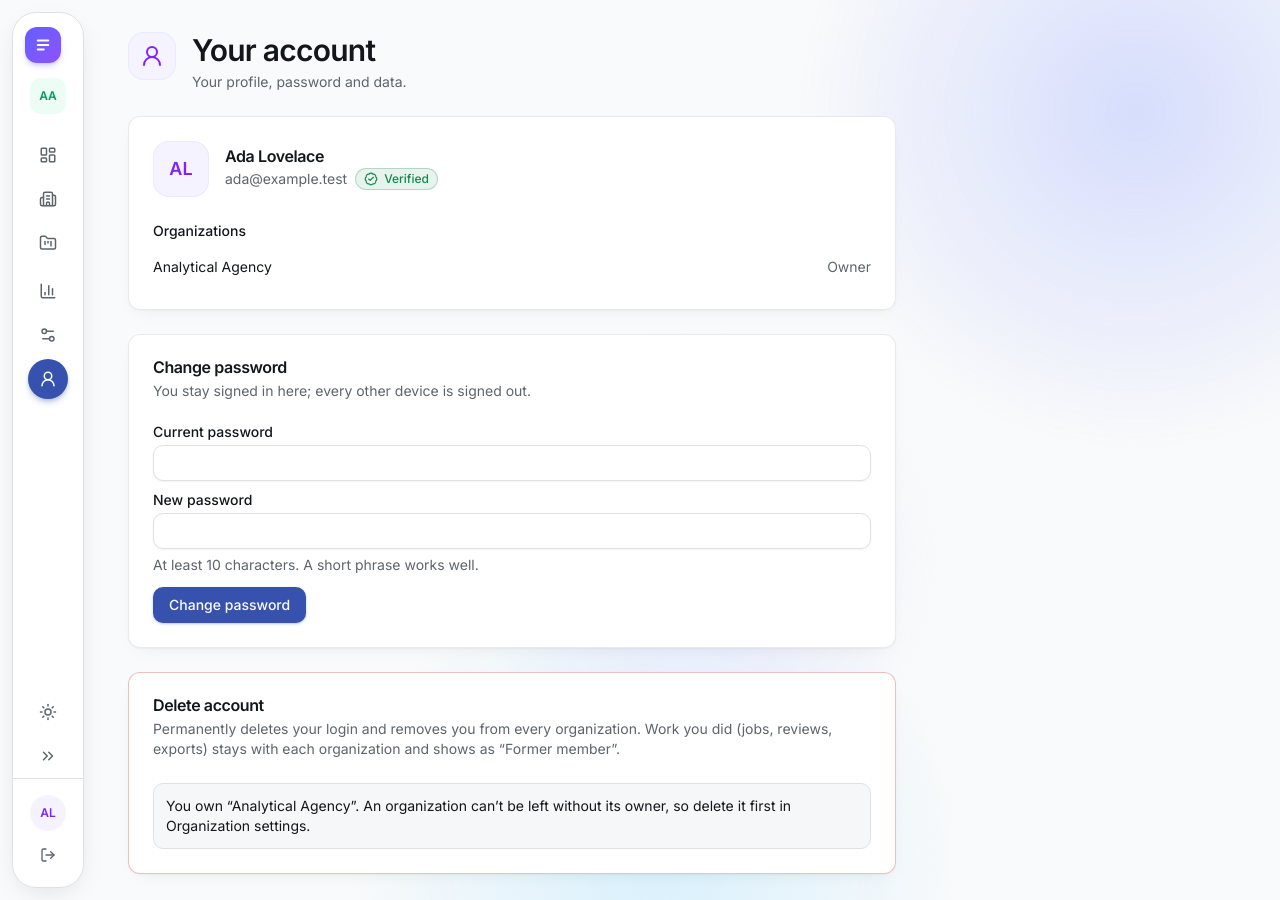
Test case: changing the password › sends the current and new password and confirms
In the password field labelled "Current password": (512, 463) [153,445,871,481], type "a-long-test-password"
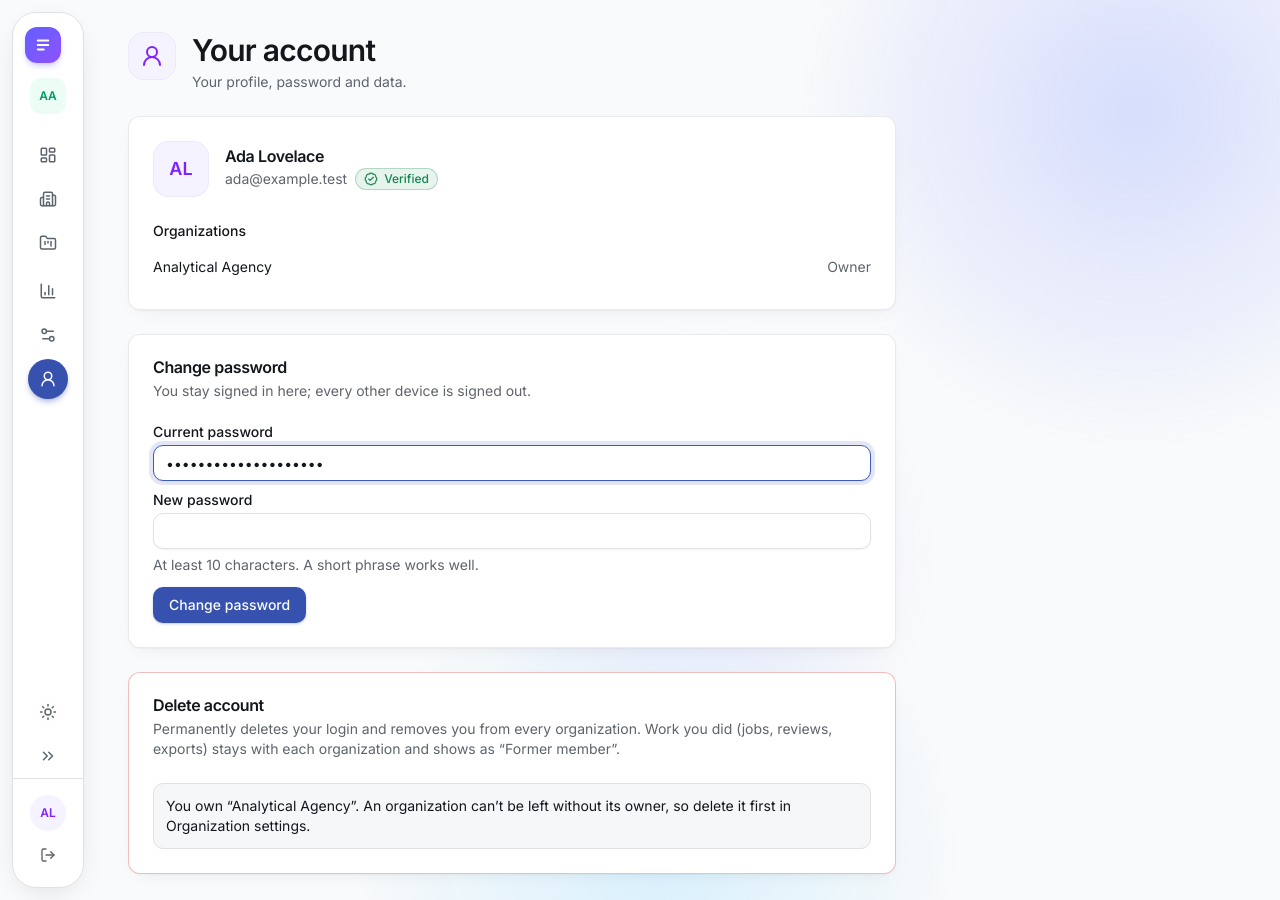
In the password field labelled "New password": (512, 531) [153,513,871,549], type "short"
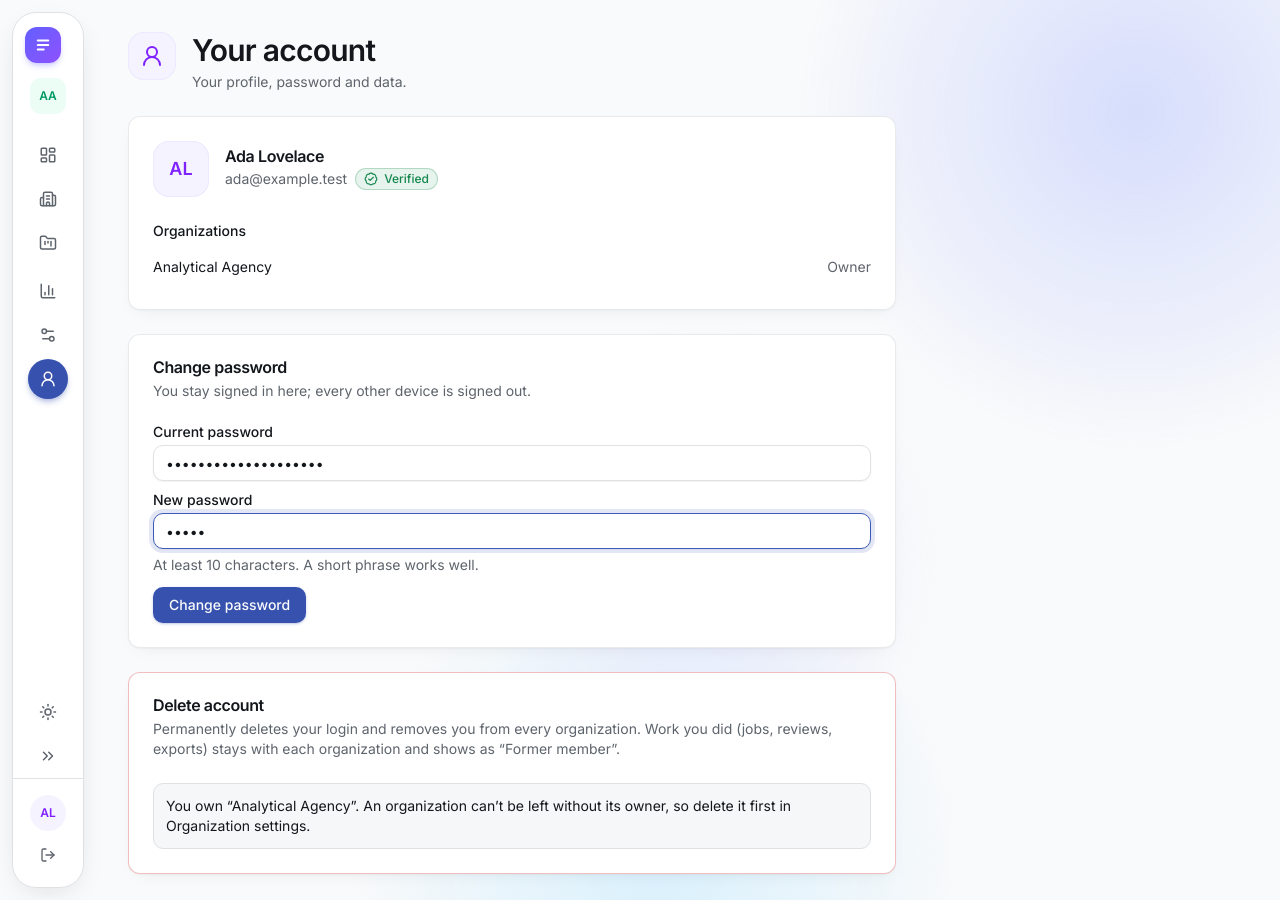
Click the button "Change password": (230, 605) [153,587,306,623]
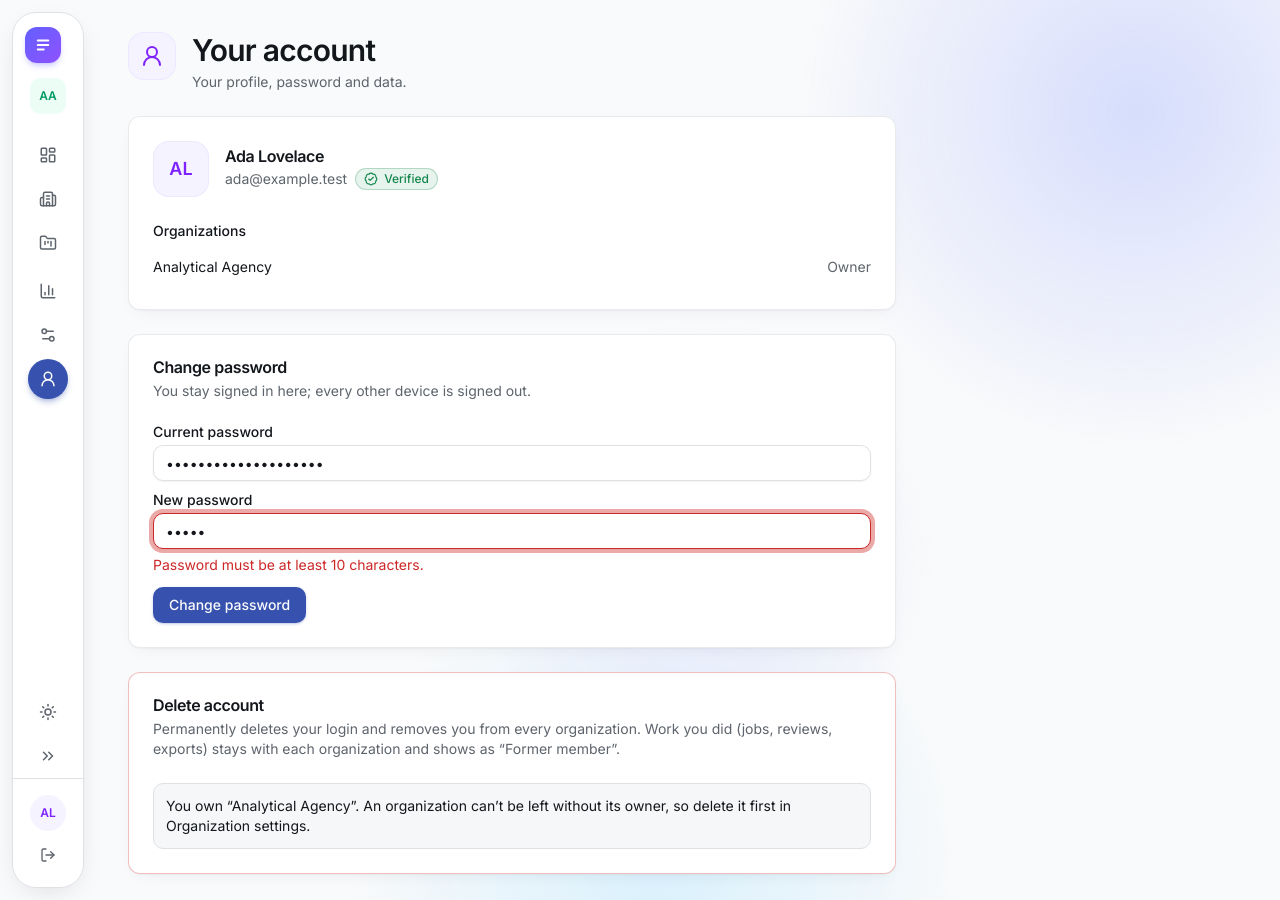
Expected: the text "Password must be at least 10 characters." is shown, [153,556,424,573]
In the password field labelled "New password": (512, 531) [153,513,871,549], type "a-brand-new-password"
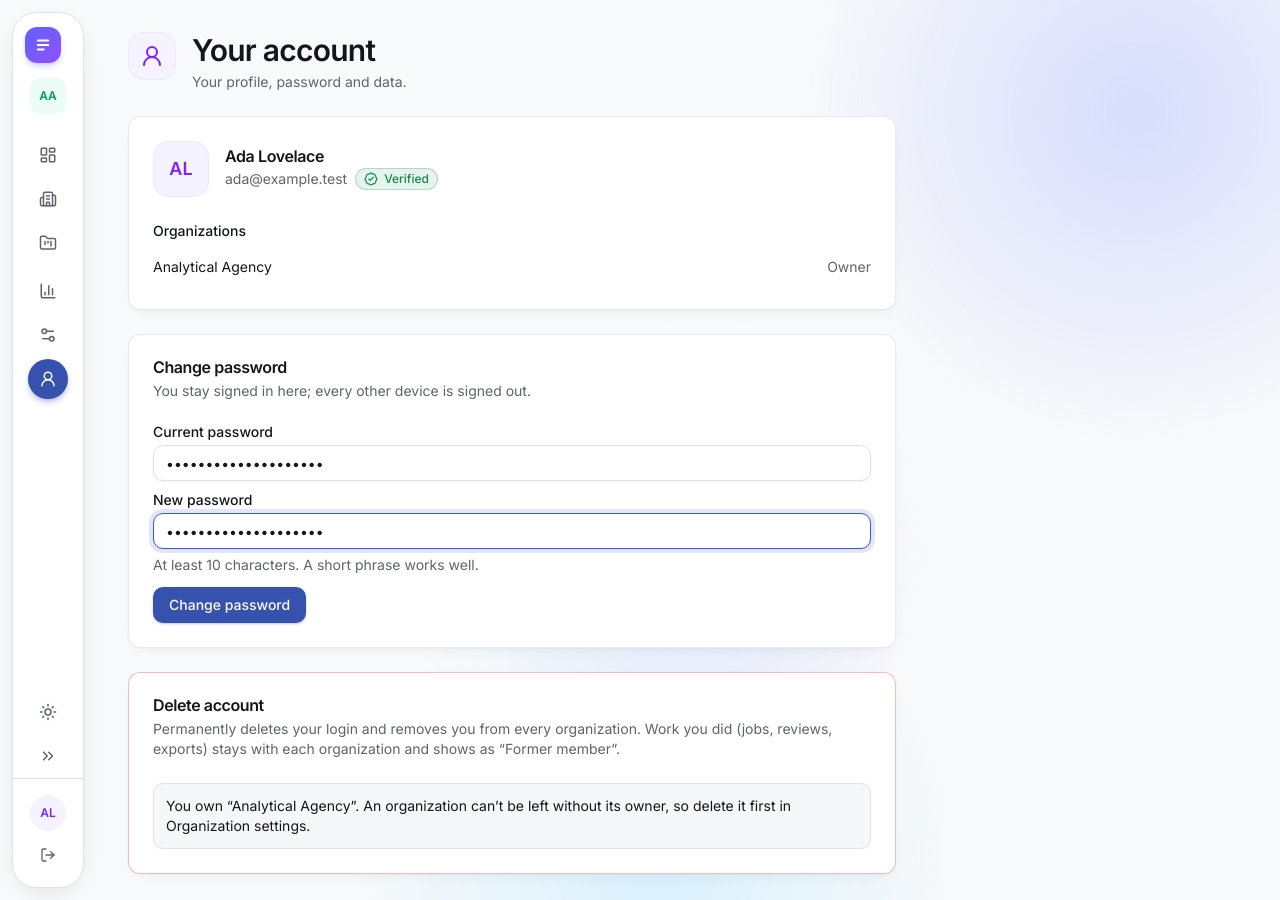
Click the button "Change password": (230, 605) [153,587,306,623]
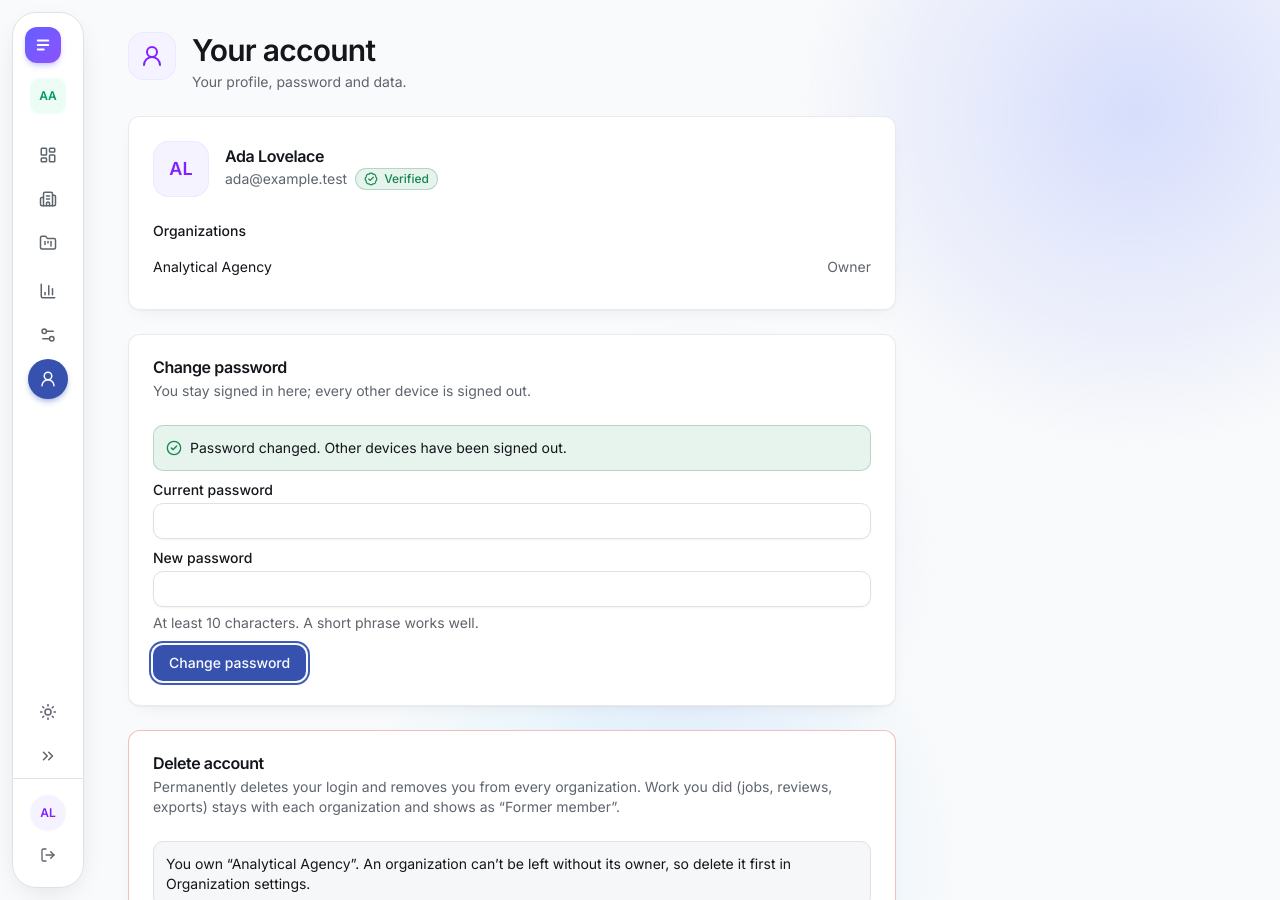
Expected: the text "Password changed. Other devices have been signed out." is shown, [153,425,871,471]
